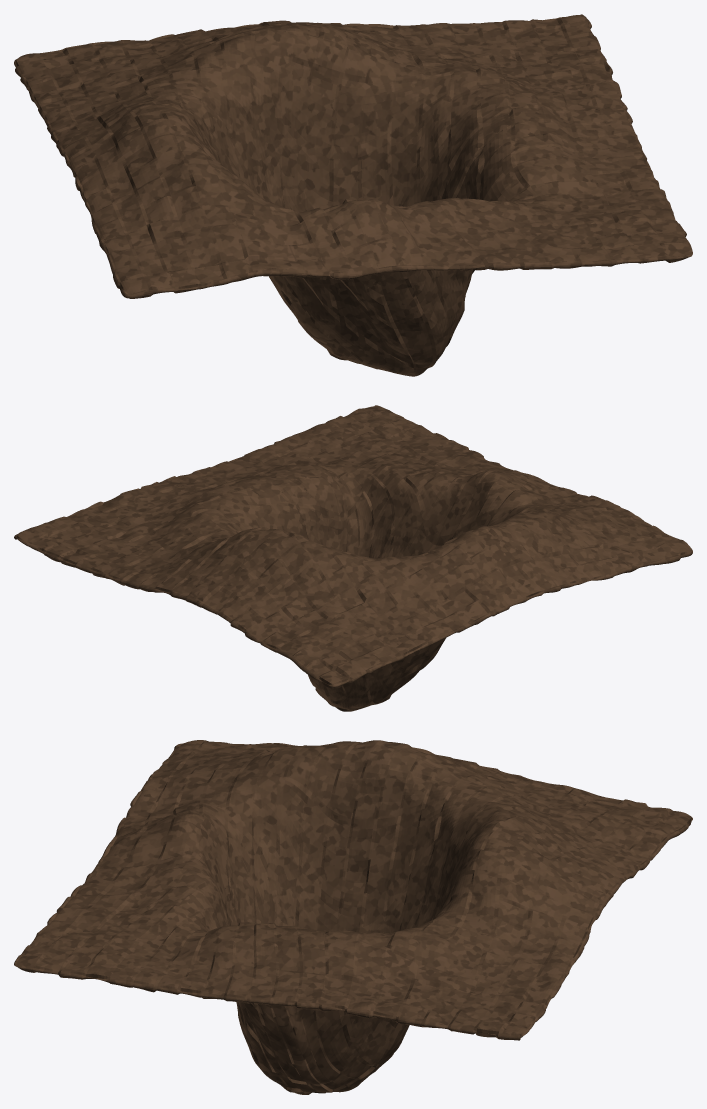
Rendered from freshHole2.fbx.
3 renders of one model, top to bottom at view 1: azimuth 30°, elevation 25°; view 2: azimuth 150°, elevation 25°; view 3: azimuth 270°, elevation 25°, orthographic. The views are drawn at different scales.
Parts seen in each view (by area): view 1: Plane; view 2: Plane; view 3: Plane.
Part boxes in pixels (bbox=[...]): Plane: bbox=[14, 14, 692, 376]; Plane: bbox=[14, 405, 692, 711]; Plane: bbox=[14, 740, 692, 1094].
Bounding box in the file's own units: 250 × 104 × 247.
Materials: 1 (1 with a texture image).
